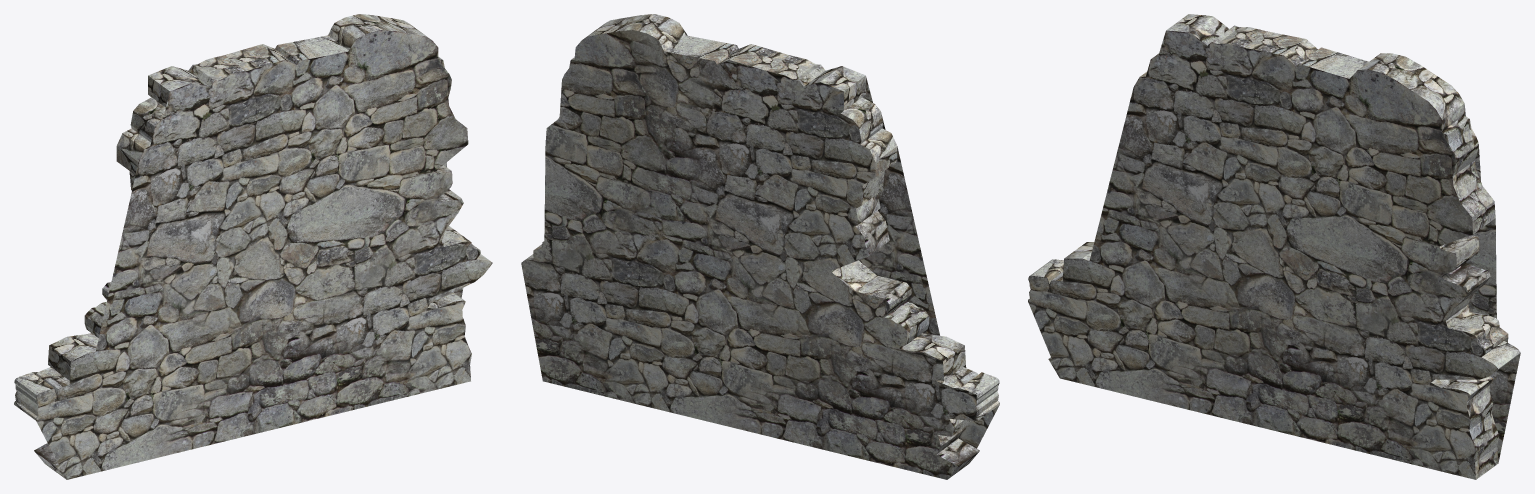
Rendered from zid3.fbx.
The picture shows the model from 3 angles, left to right: view 1: azimuth 30°, elevation 25°; view 2: azimuth 150°, elevation 25°; view 3: azimuth 330°, elevation 25°; orthographic projection. The views are drawn at different scales.
Parts seen in each view (by area): view 1: Mesh3; view 2: Mesh3; view 3: Mesh3.
Boxes of the visible parts, x1,y1,x2,y2 form: Mesh3: (14,14,492,479); Mesh3: (521,14,999,479); Mesh3: (1028,14,1520,479).
Bounding box in the file's own units: 6.26 × 4.89 × 0.52.
